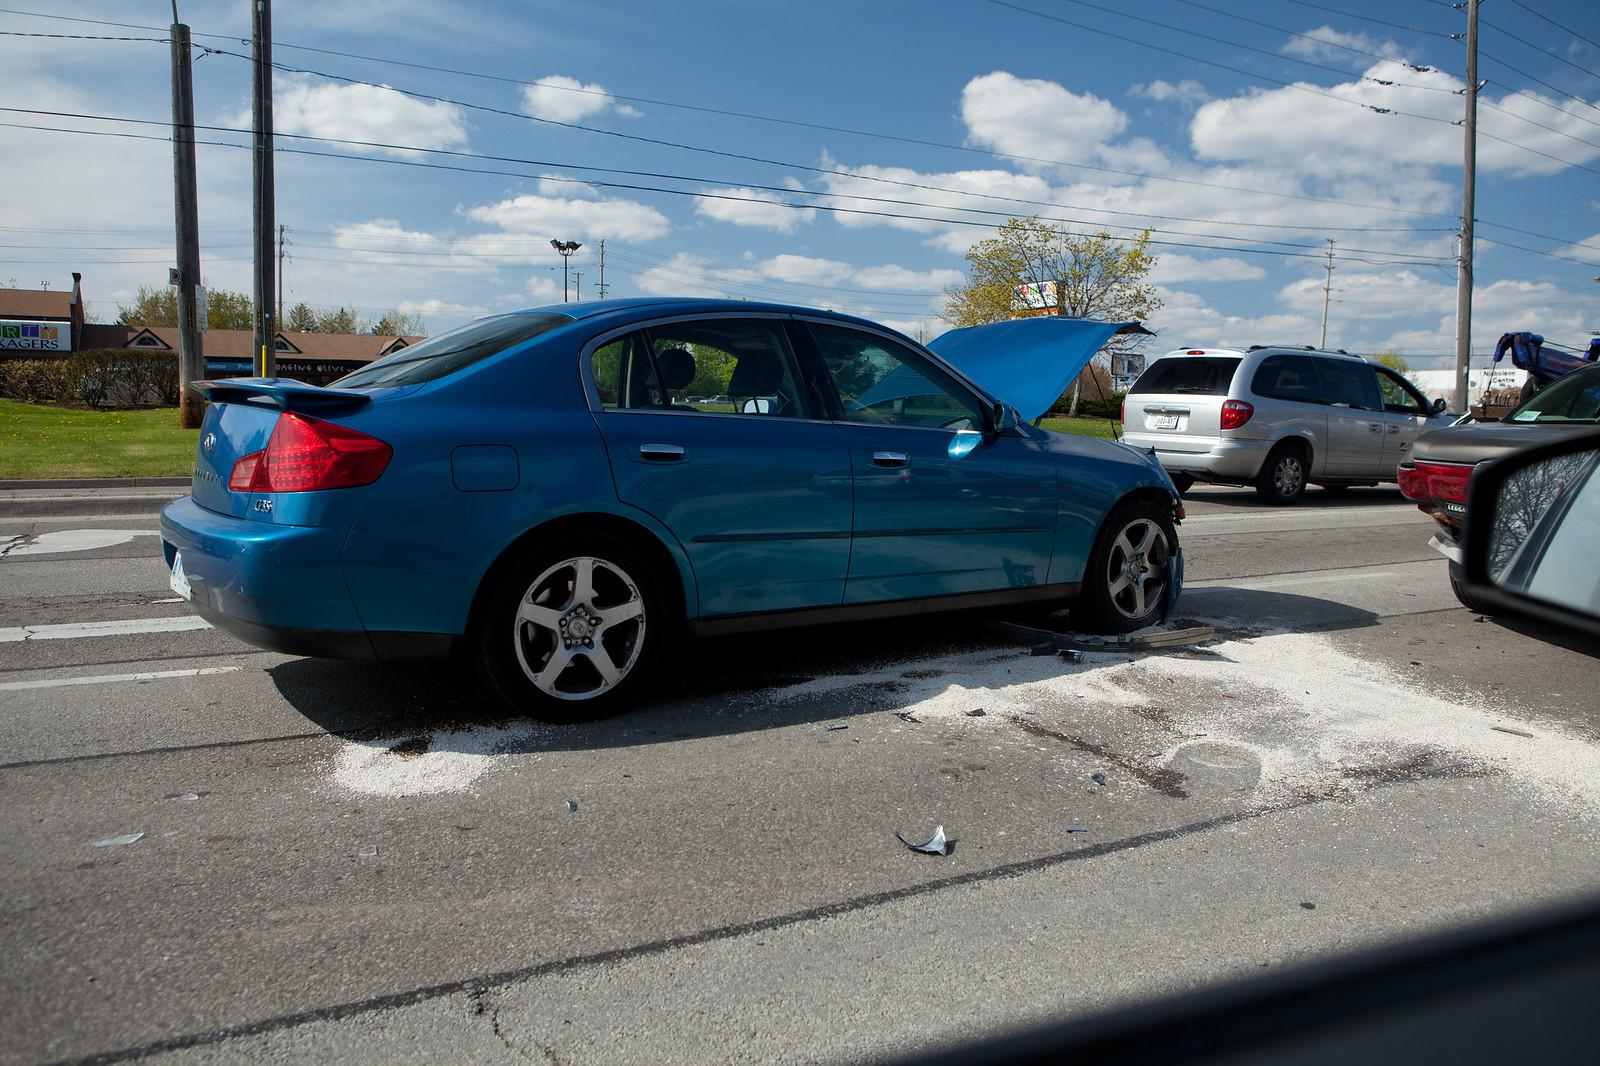doorouter-dent: (588, 320, 824, 493)
